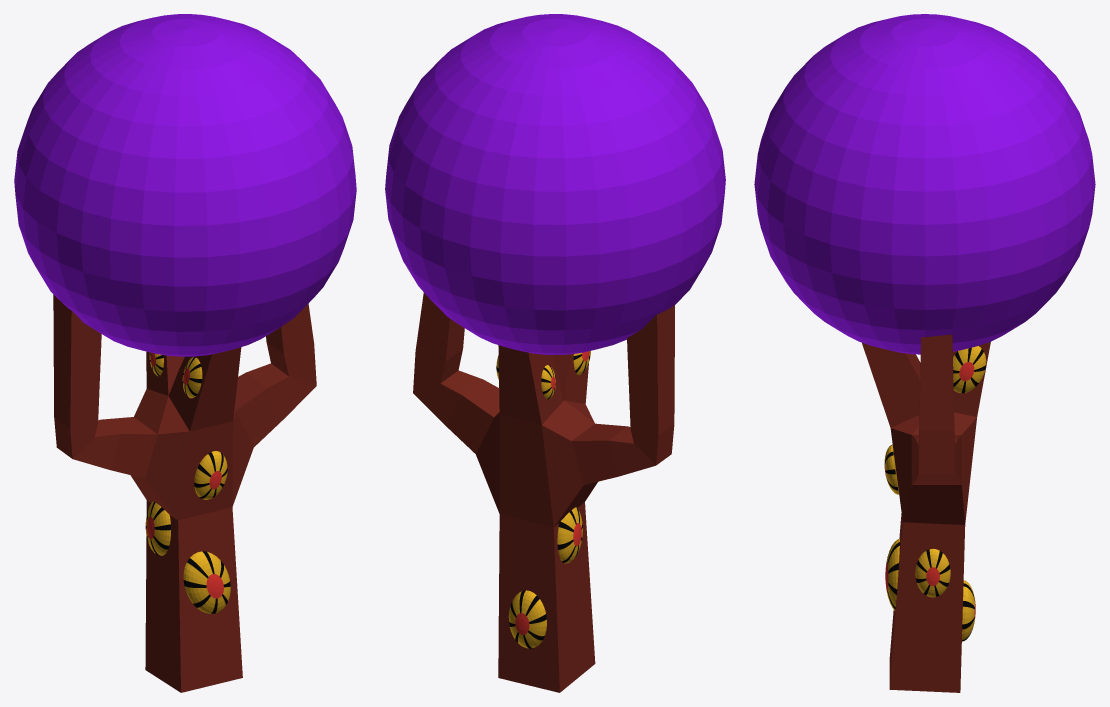
Rendered from DemonTree.fbx.
3 renders of one model, left to right at view 1: azimuth 30°, elevation 25°; view 2: azimuth 150°, elevation 25°; view 3: azimuth 270°, elevation 25°, orthographic.
Parts seen in each view (by area): view 1: Cube; view 2: Cube; view 3: Cube.
Part boxes in pixels (<box>): Cube: <box>14,14,356,692</box>; Cube: <box>385,14,725,692</box>; Cube: <box>754,14,1095,692</box>.
Size of the model in its own units: 3.66 by 7.62 by 3.66.
